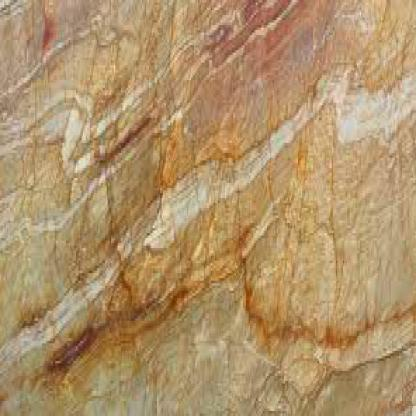Metamorphic_Quartize: (0, 2, 415, 414)
